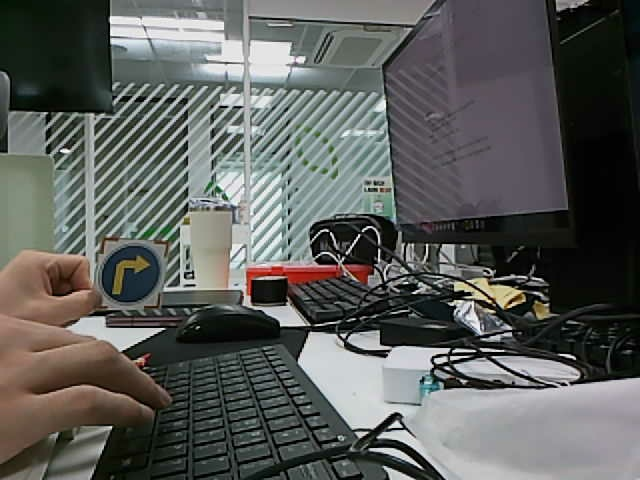right: (98, 244, 163, 306)
